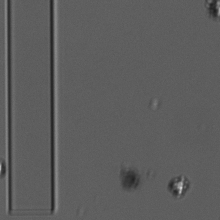Dead Cell: (119, 166, 141, 192)
Living Cell: (167, 172, 190, 198)
